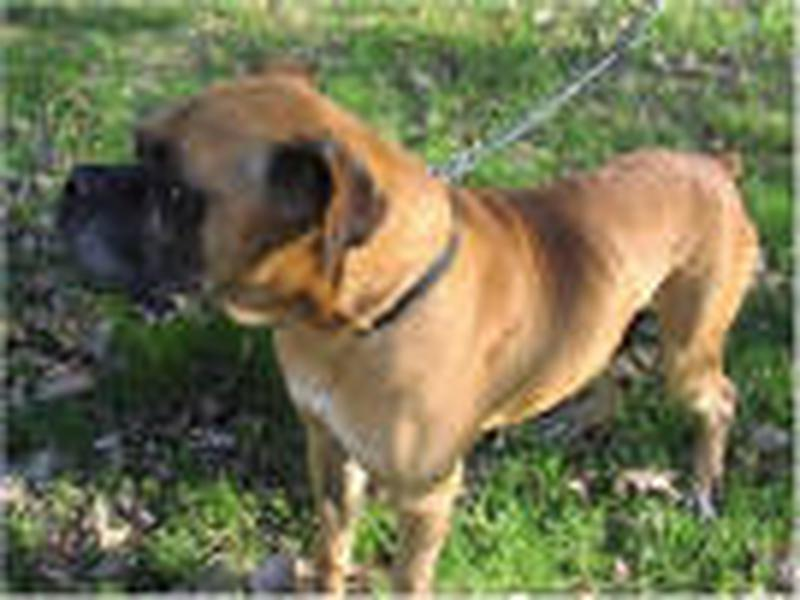dog: (51, 52, 745, 594)
